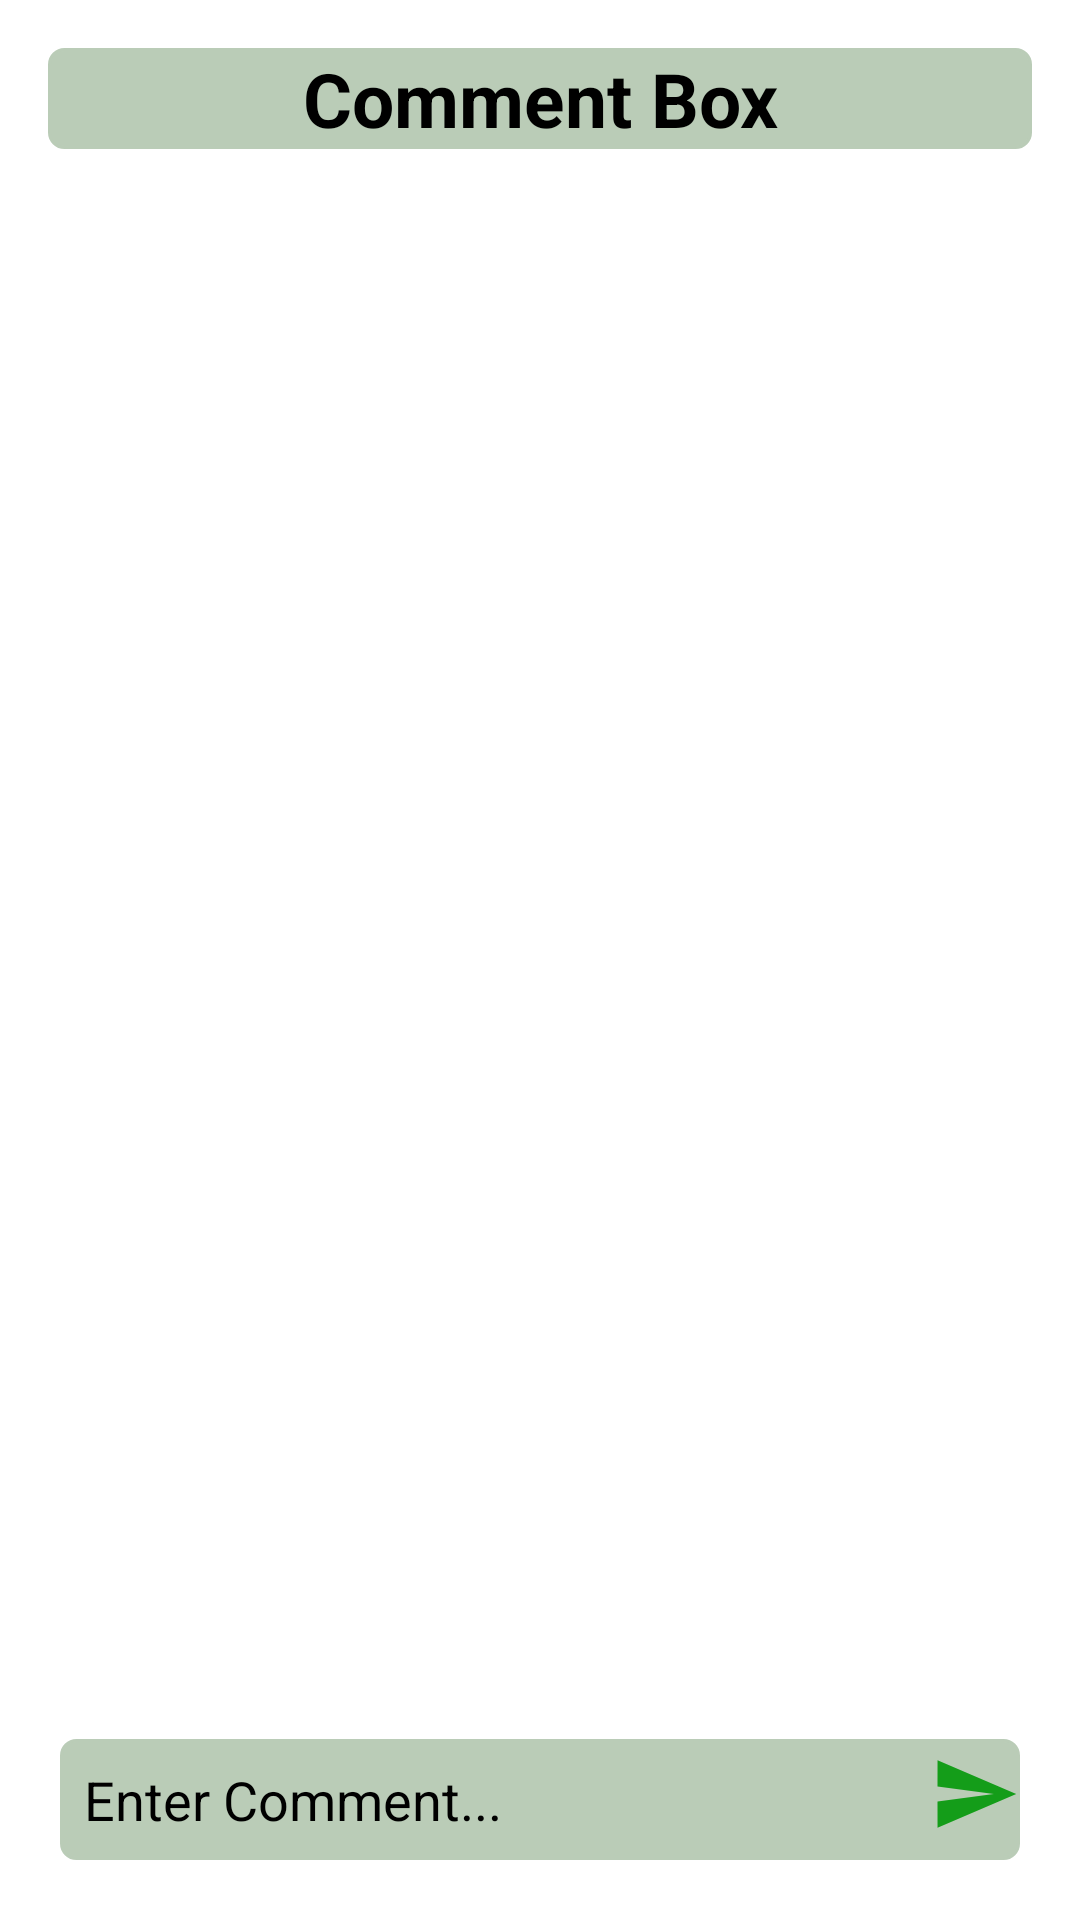

Screen size 1080×1920. Icon name, then its box in pixels as (x1, y1, x2, y2):
send comment: (937, 1760, 1016, 1828)
